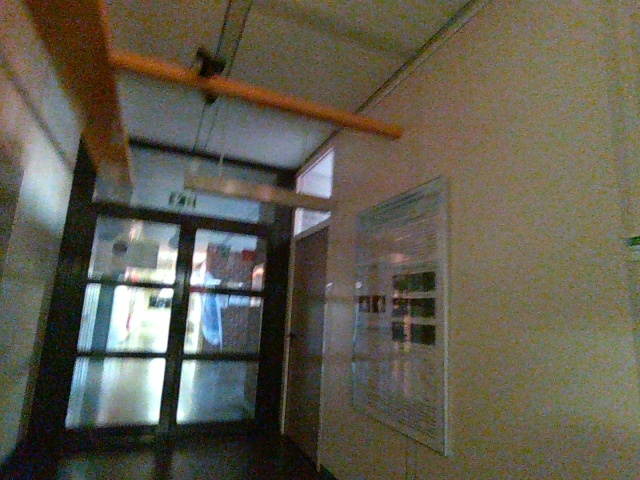door_double: (60, 201, 278, 439)
door_single: (283, 222, 331, 465)
